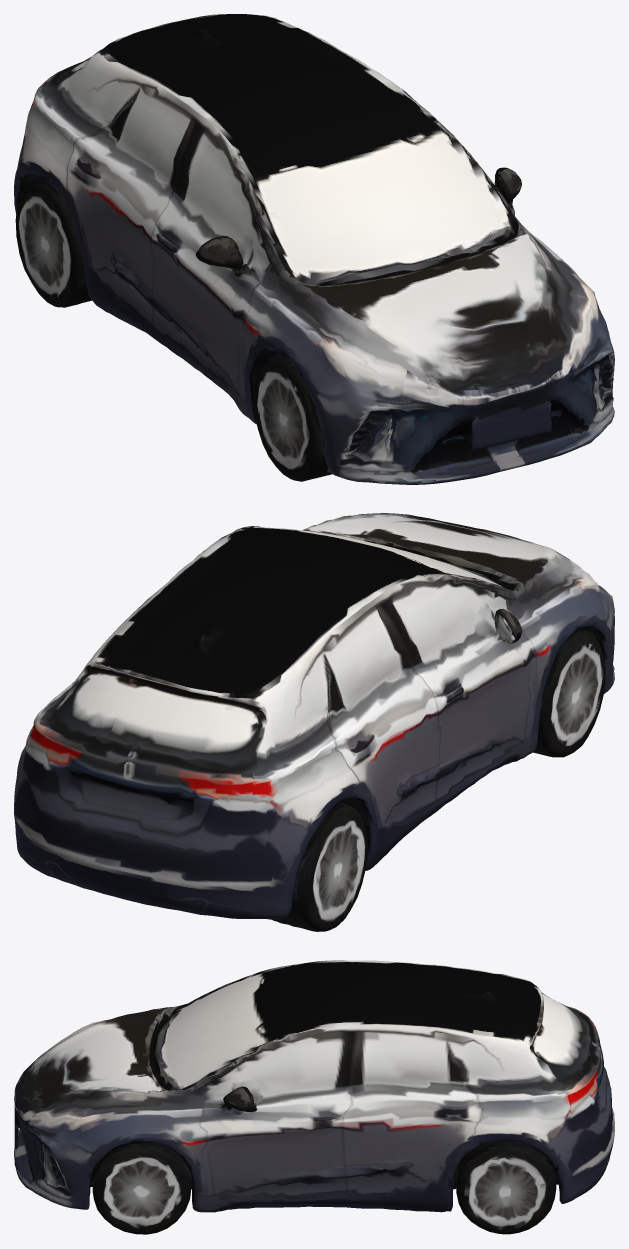
The model's file is cursor_navigation.glb.
The picture shows the model from 3 angles, top to bottom: view 1: azimuth 30°, elevation 25°; view 2: azimuth 150°, elevation 25°; view 3: azimuth 270°, elevation 25°; orthographic projection. The views are drawn at different scales.
Parts seen in each view (by area): view 1: model; view 2: model; view 3: model.
Part boxes in pixels (left/top/right/bottom): model: left=14, top=14, right=614, bottom=484; model: left=14, top=513, right=614, bottom=931; model: left=14, top=960, right=614, bottom=1234.
Bounding box in the file's own units: 0.897 × 0.6737 × 1.9.
1 material, 1 textured.
